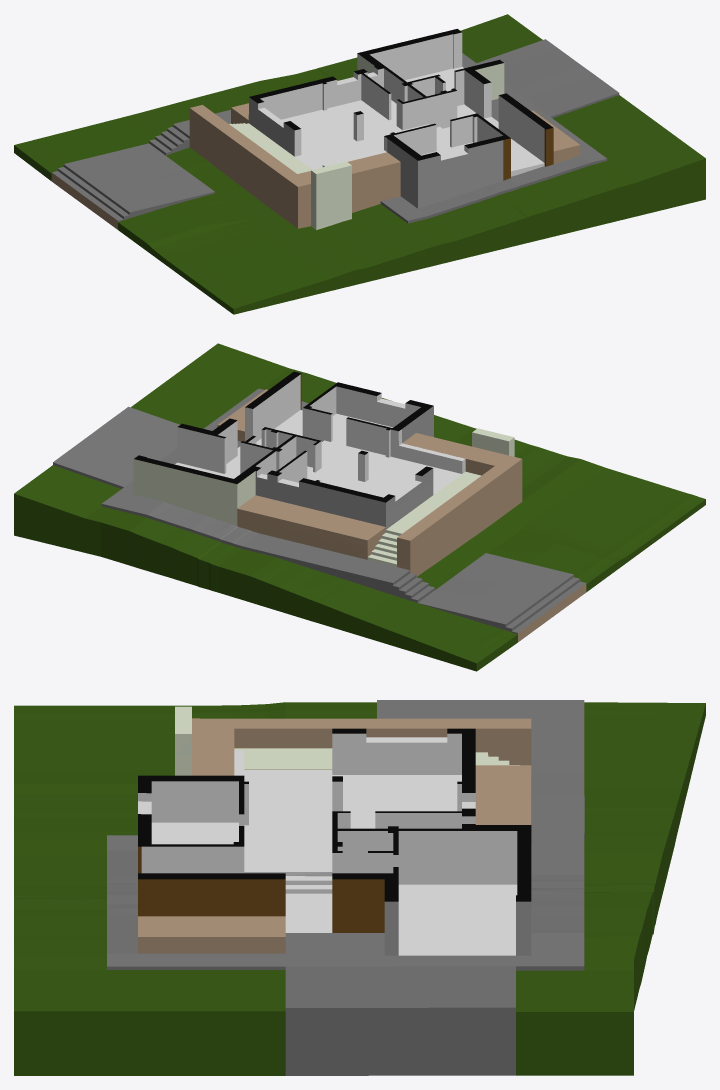
File: casaClim_groundFloor.glb
The picture shows the model from 3 angles, top to bottom: view 1: azimuth 30°, elevation 25°; view 2: azimuth 150°, elevation 25°; view 3: azimuth 270°, elevation 25°; orthographic projection. The views are drawn at different scales.
Visible parts, largest first — view 1: Plane, Plane.001, SECTIUNE-1; view 2: Plane, Plane.001, SECTIUNE-1; view 3: Plane, Plane.001, SECTIUNE-1.
Boxes of the visible parts, left/top/right/bottom form: Plane: left=14, top=14, right=705, bottom=314; Plane.001: left=258, top=32, right=544, bottom=176; SECTIUNE-1: left=249, top=28, right=553, bottom=160; Plane: left=14, top=343, right=705, bottom=671; Plane.001: left=147, top=374, right=465, bottom=501; SECTIUNE-1: left=134, top=371, right=433, bottom=502; Plane: left=14, top=700, right=705, bottom=1075; Plane.001: left=138, top=733, right=517, bottom=955; SECTIUNE-1: left=138, top=728, right=531, bottom=901.
Bounding box in the file's own units: 27.7 × 3.94 × 22.42.
